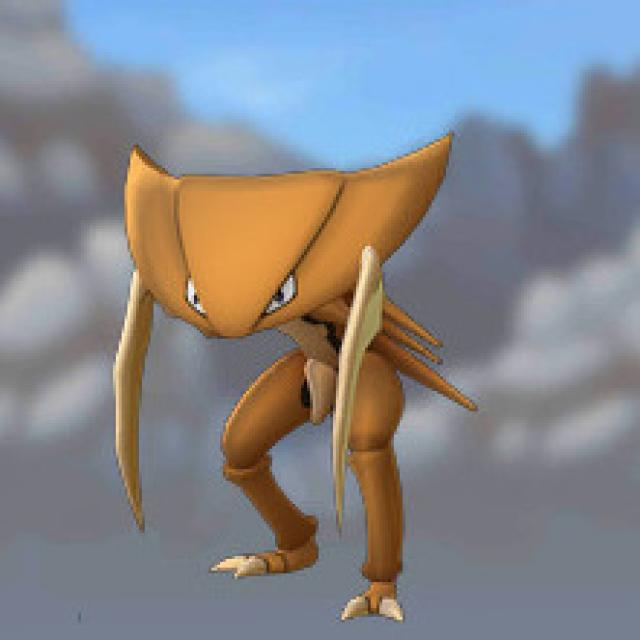Kabutops: (103, 130, 467, 623)
